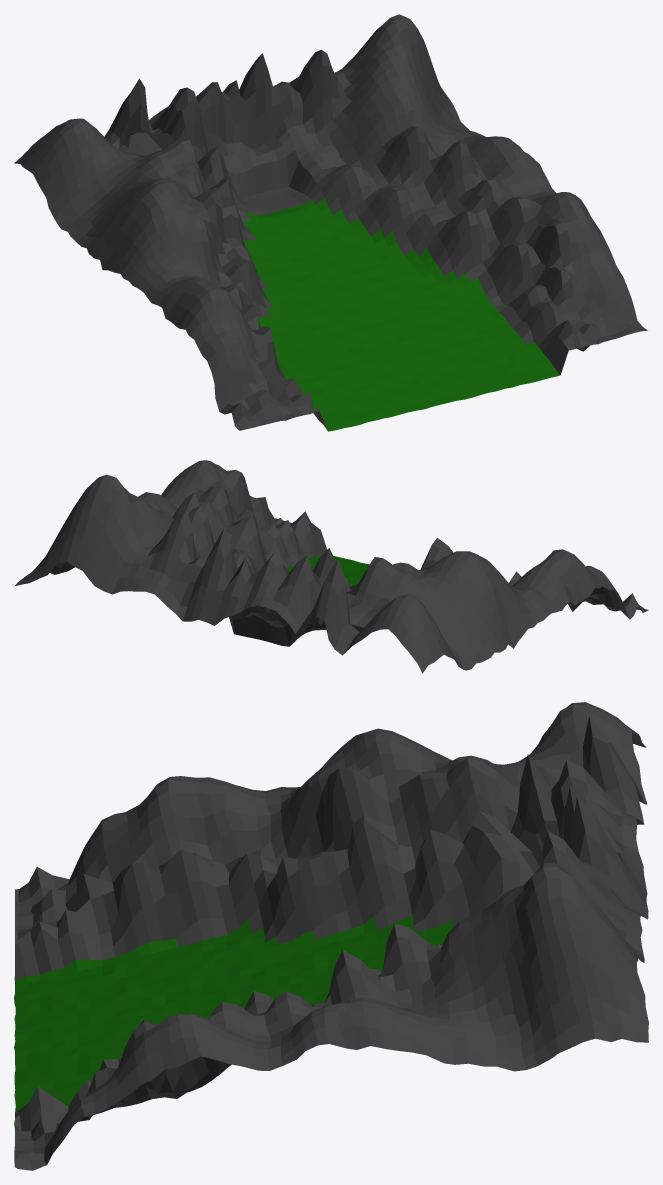
The model's file is HillStartArea.fbx.
3 views of the same model, one above another, from view 1: azimuth 30°, elevation 25°; view 2: azimuth 150°, elevation 25°; view 3: azimuth 270°, elevation 25° (orthographic). The views are drawn at different scales.
Parts seen in each view (by area): view 1: Plane; view 2: Plane; view 3: Plane.
Part boxes in pixels (bbox=[...]): Plane: bbox=[14, 14, 647, 431]; Plane: bbox=[14, 460, 648, 673]; Plane: bbox=[14, 702, 648, 1170].
Bounding box in the file's own units: 15084 × 7430 × 14448.
